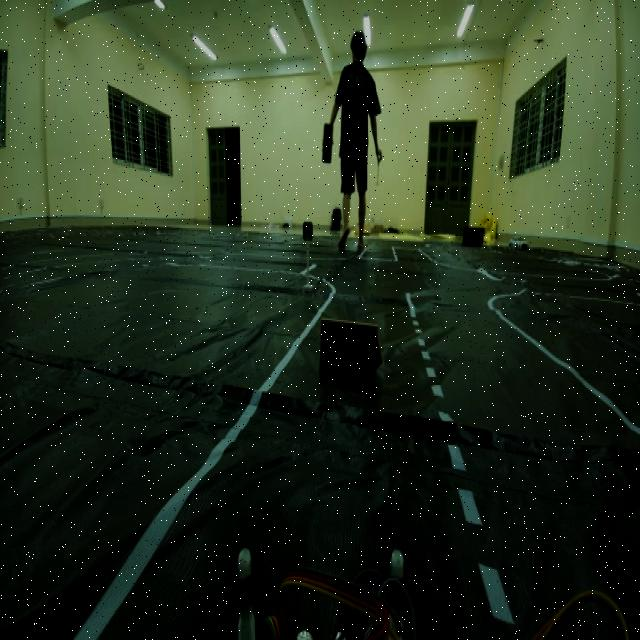roadblock: (314, 306, 388, 394)
